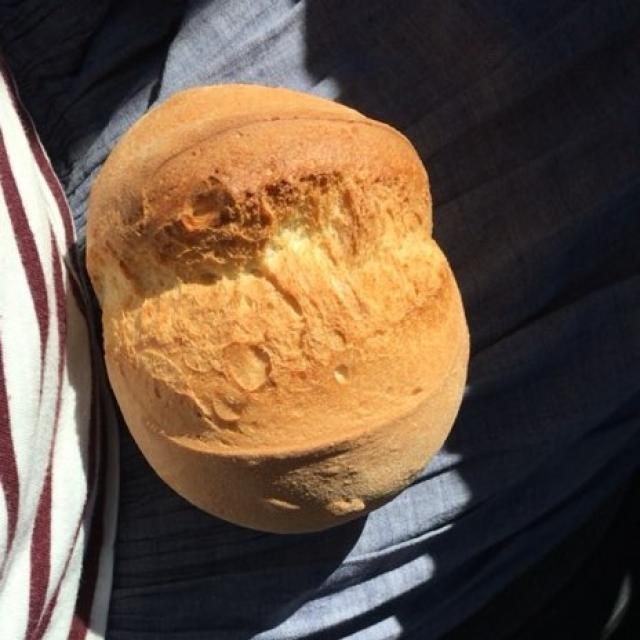bread-white: (89, 86, 463, 490)
